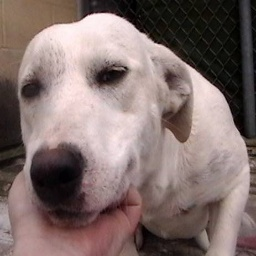dog: (10, 10, 251, 256)
